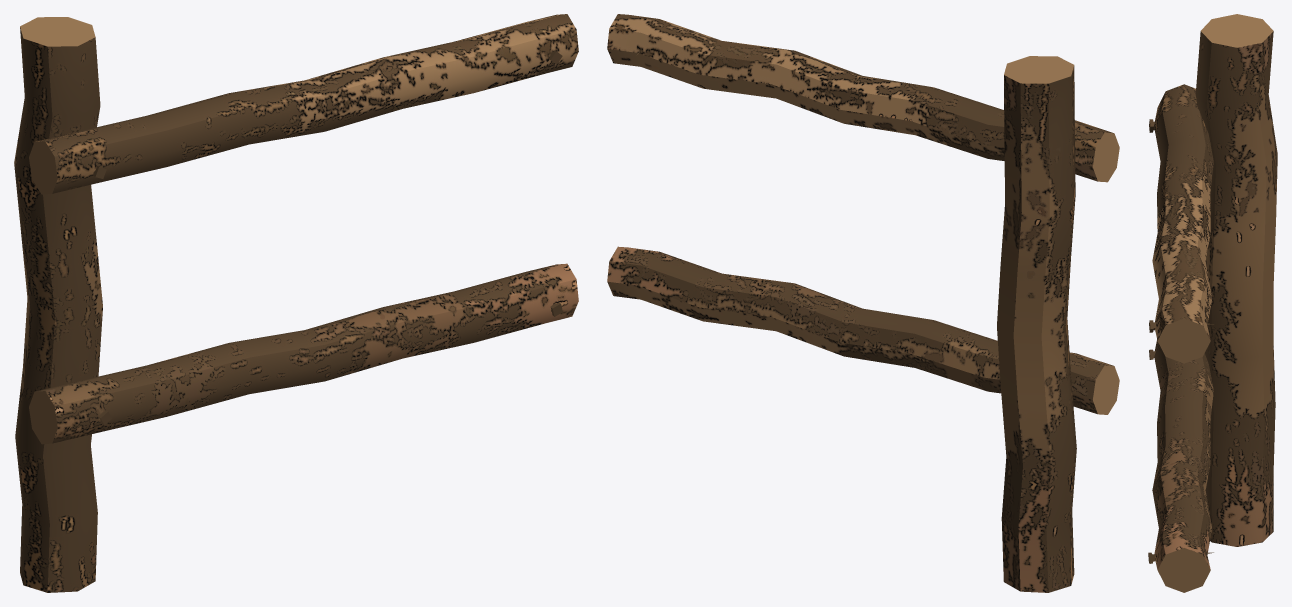
The model's file is Cercado.fbx.
3 renders of one model, left to right at view 1: azimuth 30°, elevation 25°; view 2: azimuth 150°, elevation 25°; view 3: azimuth 270°, elevation 25°, orthographic. The views are drawn at different scales.
Parts seen in each view (by area): view 1: Cerca, Cerca 1, Cerca 2; view 2: Cerca, Cerca 1, Cerca 2; view 3: Cerca, Cerca 1, Cerca 2.
Boxes of the visible parts, left/top/right/bottom form: Cerca: left=14, top=17, right=102, bottom=592; Cerca 1: left=29, top=14, right=578, bottom=194; Cerca 2: left=29, top=263, right=578, bottom=444; Cerca: left=997, top=56, right=1076, bottom=592; Cerca 1: left=607, top=14, right=1119, bottom=182; Cerca 2: left=607, top=246, right=1119, bottom=414; Cerca: left=1195, top=14, right=1277, bottom=546; Cerca 1: left=1152, top=84, right=1213, bottom=363; Cerca 2: left=1152, top=339, right=1213, bottom=592.
Bounding box in the file's own units: 200 × 199 × 46.48.
